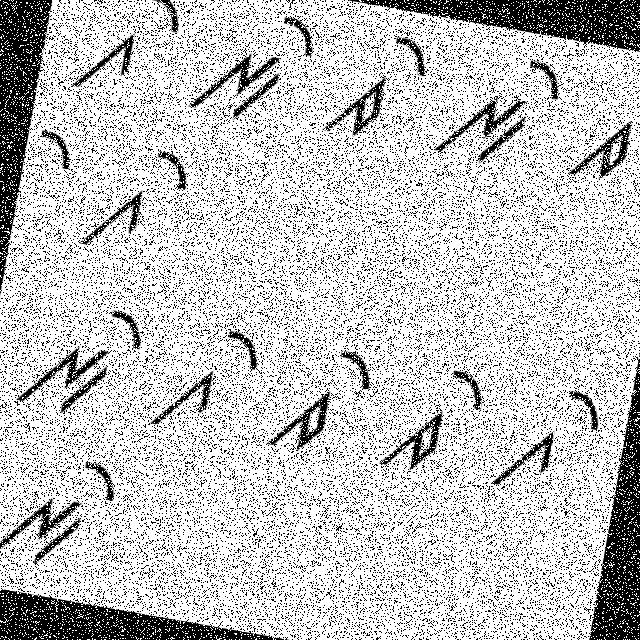gay: (74, 128, 200, 270), (490, 368, 610, 512), (144, 307, 268, 446), (61, 0, 187, 114)
ngay: (11, 280, 150, 437), (428, 38, 568, 192), (0, 430, 132, 587), (182, 0, 323, 137)
ta: (567, 99, 639, 196)
tay: (260, 325, 382, 478), (370, 352, 494, 497), (317, 16, 436, 156)
